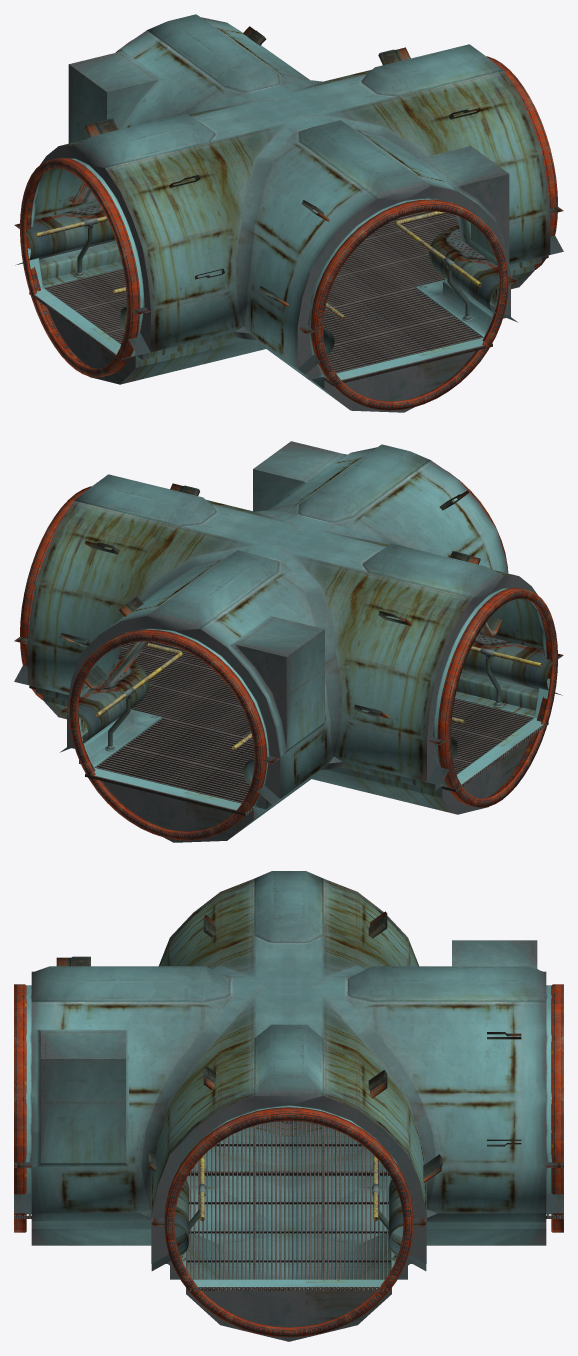
File: tau_tunnel_4way.dae
3 views of the same model, one above another, from view 1: azimuth 30°, elevation 25°; view 2: azimuth 150°, elevation 25°; view 3: azimuth 270°, elevation 25° (orthographic). The views are drawn at different scales.
Visible parts, largest first — view 1: polySurface402, polySurface403, pPipe59, pPipe55, polySurface33, polySurface406, polySurface398, polySurface32, polySurface34, pPipe54, polySurface405, polySurface35 (+4 smaller); view 2: polySurface402, polySurface39, pPipe56, pPipe55, polySurface31, polySurface407, polySurface397, polySurface32, polySurface36, pPipe54, polySurface404, polySurface416 (+5 smaller); view 3: polySurface402, pPipe54, polySurface32, polySurface31, polySurface33, pPipe56, pPipe59, polySurface35, polySurface406, polySurface397, polySurface34, polySurface36 (+1 smaller).
Part boxes in pixels (box(x1,y1,x2,y2)): polySurface402: box(27, 14, 550, 412); polySurface403: box(323, 287, 492, 385); pPipe59: box(310, 199, 508, 410); pPipe55: box(20, 157, 140, 377); polySurface33: box(327, 254, 548, 306); polySurface406: box(428, 207, 563, 322); polySurface398: box(14, 204, 115, 265); polySurface32: box(336, 217, 458, 276); polySurface34: box(29, 268, 126, 316); pPipe54: box(486, 56, 557, 269); polySurface405: box(113, 211, 482, 321); polySurface35: box(60, 298, 126, 339); polySurface402: box(27, 441, 550, 842); polySurface39: box(85, 717, 255, 815); pPipe56: box(69, 629, 267, 840); pPipe55: box(437, 588, 557, 807); polySurface31: box(29, 684, 250, 737); polySurface407: box(462, 635, 563, 695); polySurface397: box(14, 637, 149, 752); polySurface32: box(119, 647, 241, 706); polySurface36: box(451, 699, 548, 746); pPipe54: box(20, 486, 91, 699); polySurface404: box(95, 642, 464, 751); polySurface416: box(84, 596, 149, 691); polySurface402: box(25, 871, 552, 1341); pPipe54: box(164, 1107, 413, 1337); polySurface32: box(254, 1171, 323, 1291); polySurface31: box(323, 1171, 391, 1291); polySurface33: box(186, 1171, 254, 1291); pPipe56: box(551, 984, 563, 1232); pPipe59: box(14, 984, 26, 1232); polySurface35: box(254, 1120, 323, 1172); polySurface406: box(14, 1162, 189, 1270); polySurface397: box(388, 1162, 563, 1270); polySurface34: box(323, 1126, 387, 1172); polySurface36: box(190, 1126, 254, 1172).
Bounding box in the file's own units: 8 × 4.17 × 8.
